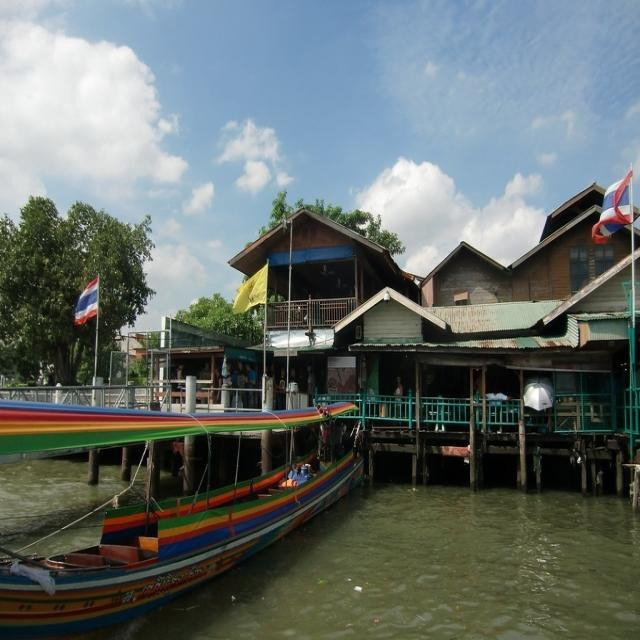boat: (0, 387, 399, 630)
